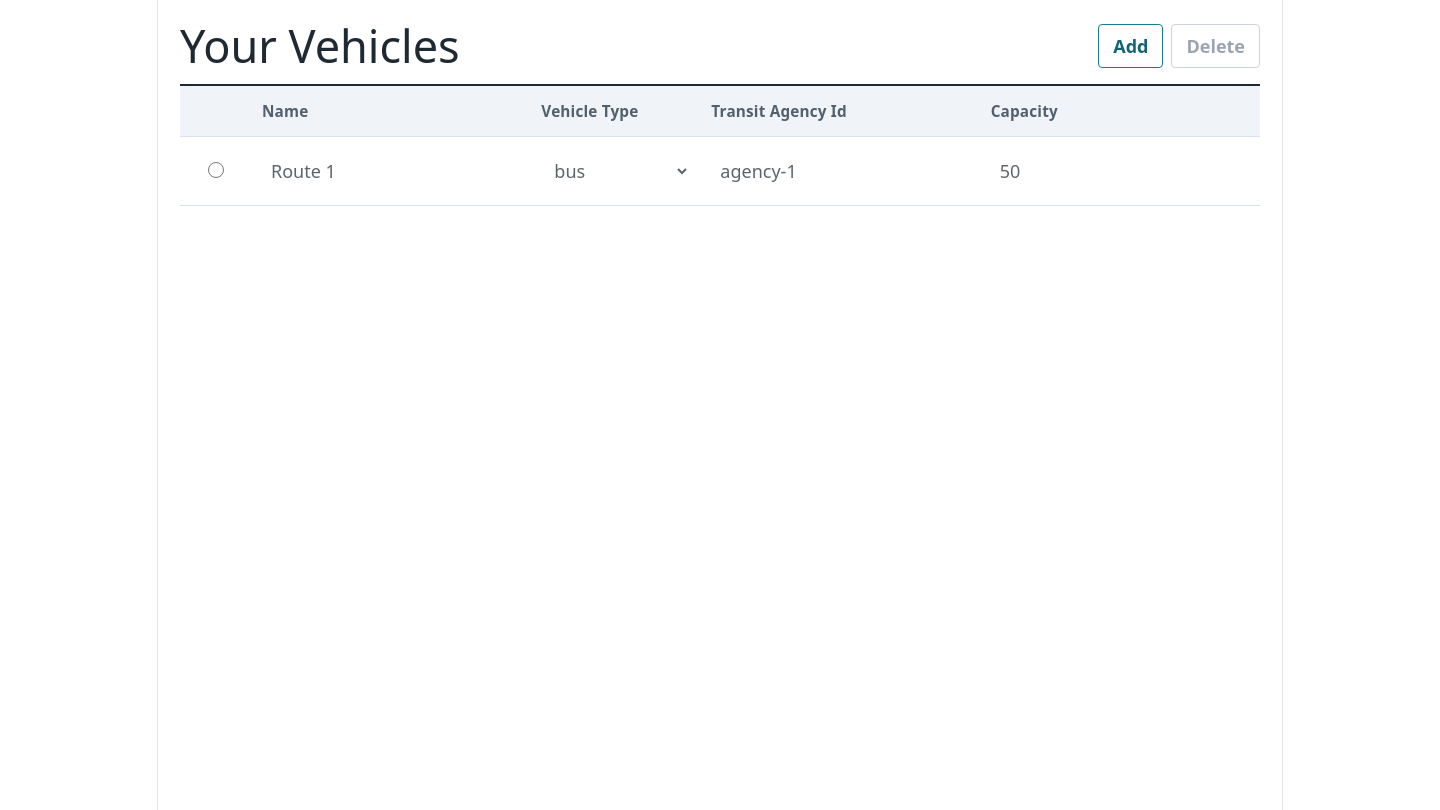
Test: VehicleList › selects a row and enables its fields when the row is clicked
Expected: the field named "name for route 1" is disabled, [262,149,521,193]
Click the row named "route 1 bus agency-1 50". click: (720, 171)
box: [180,137,1260,206]
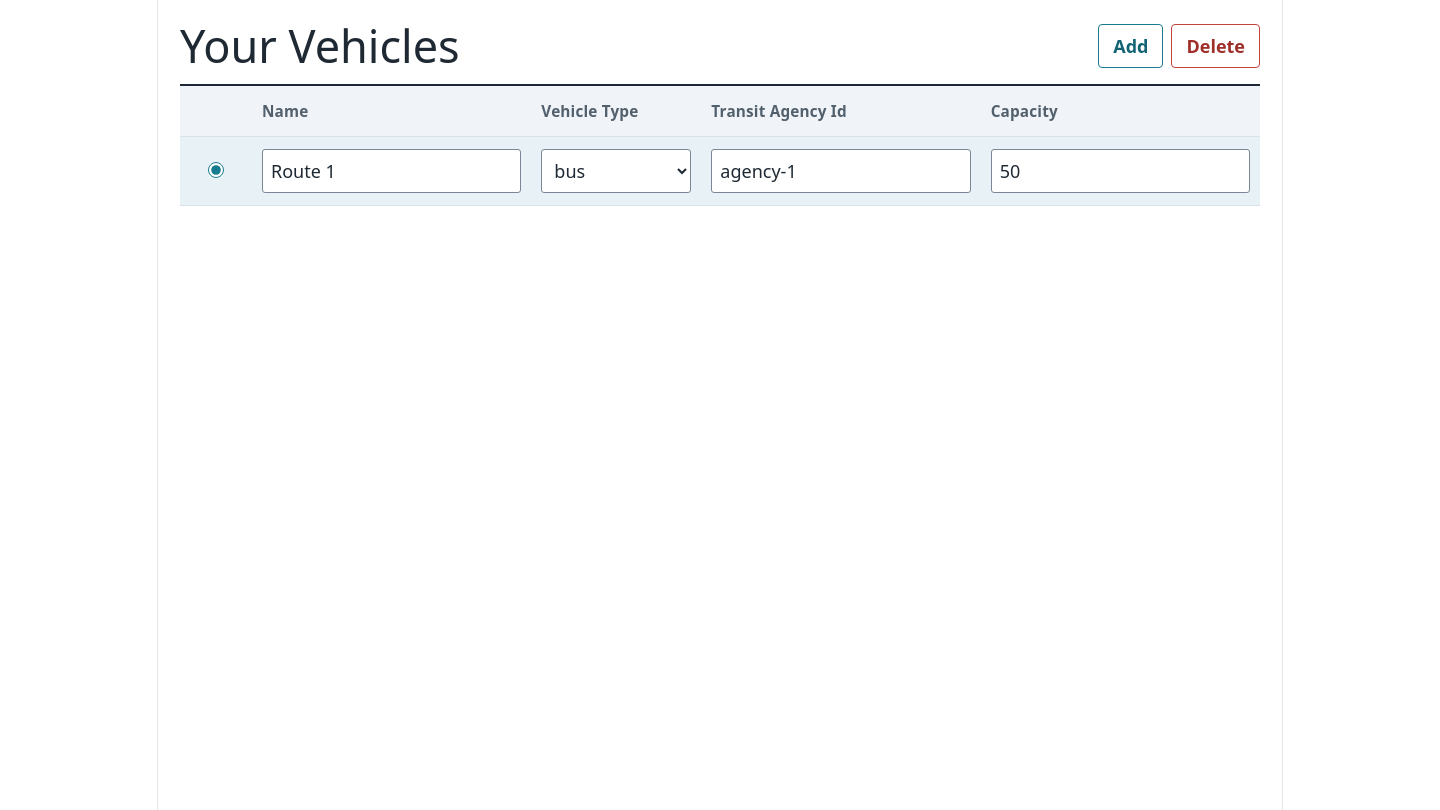
Expected: the radio button named "select route 1" is checked, [208,162,224,178]
Expected: the field named "name for route 1" is enabled, [262,149,521,193]
